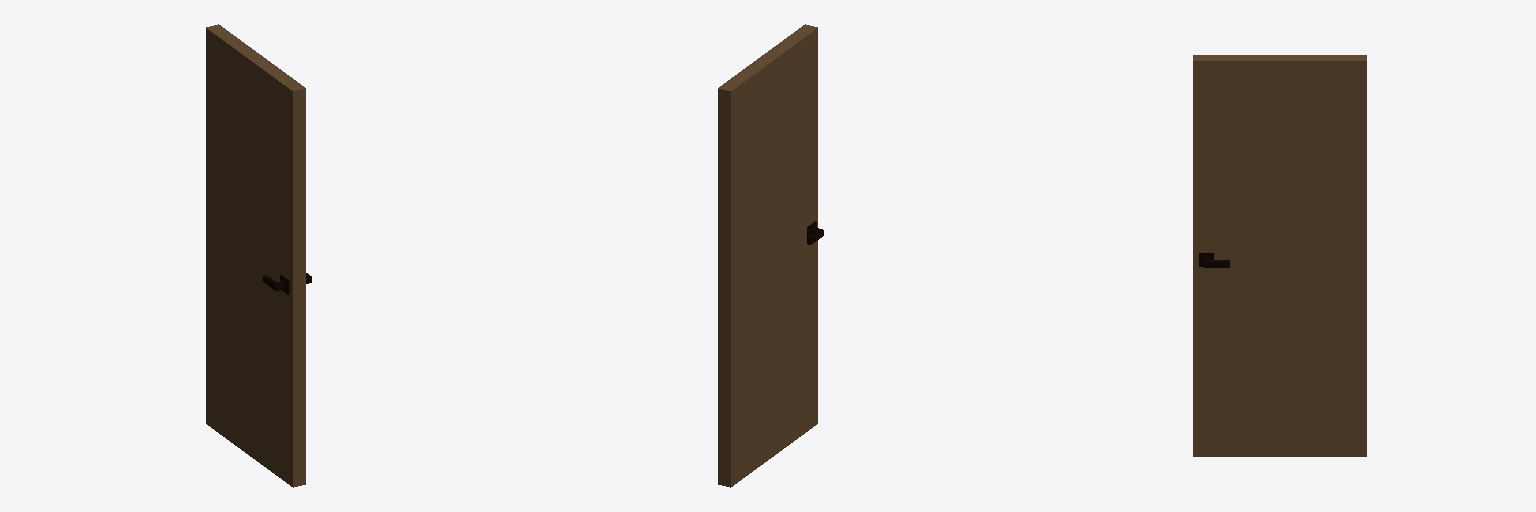
File: door801_brown.obj
The picture shows the model from 3 angles: view 1: azimuth 30°, elevation 25°; view 2: azimuth 150°, elevation 25°; view 3: azimuth 270°, elevation 25°; orthographic projection.
Visible parts, largest first — view 1: Cube; view 2: Cube; view 3: Cube.
Boxes of the visible parts, x1,y1,x2,y2 form: Cube: [206, 24, 311, 487]; Cube: [718, 24, 823, 487]; Cube: [1193, 55, 1366, 456].
Bounding box in the file's own units: 0.1899 × 2 × 0.8003.